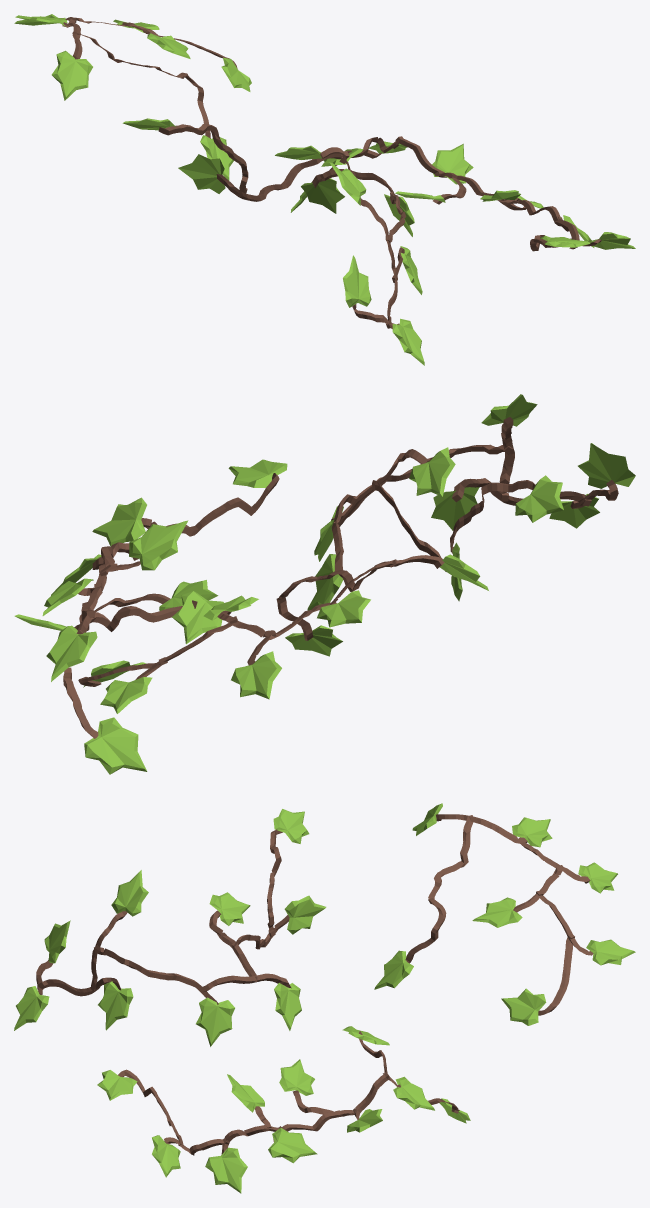
File: Ivy.glb
3 renders of one model, top to bottom at view 1: azimuth 30°, elevation 25°; view 2: azimuth 150°, elevation 25°; view 3: azimuth 270°, elevation 25°, orthographic. The views are drawn at different scales.
Visible parts, largest first — view 1: Node; view 2: Node; view 3: Node.
Part boxes in pixels (x1=…): Node: x1=14, y1=14, x2=635, y2=365; Node: x1=14, y1=394, x2=635, y2=774; Node: x1=14, y1=803, x2=635, y2=1193.
Size of the model in its own units: 1.29 by 0.6213 by 1.69.
